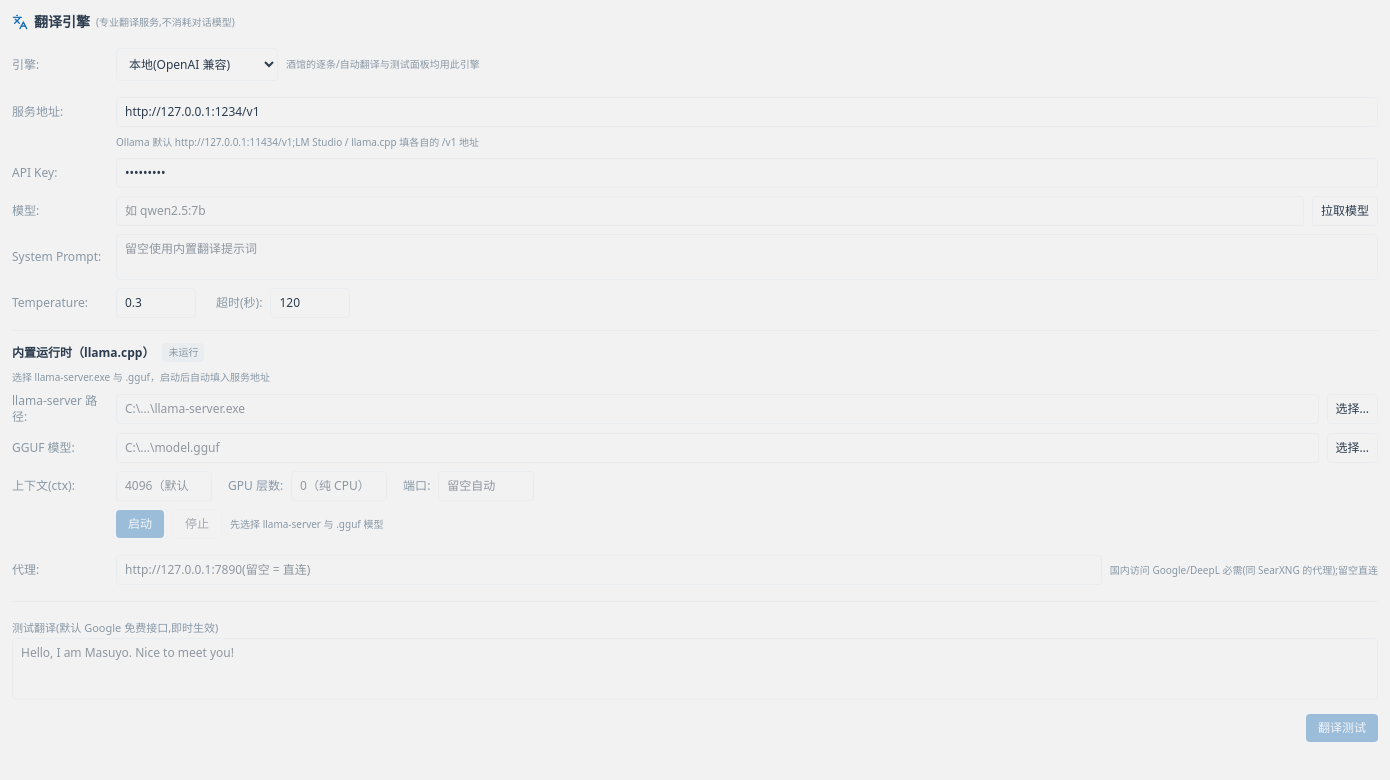
Scenario: TranslateManager — 本地(OpenAI 兼容)引擎 › 点「拉取模型」→ 调 probe_local_llm 并把模型填进下拉
Click the button "拉取模型": (1345, 211) [1312,196,1378,226]
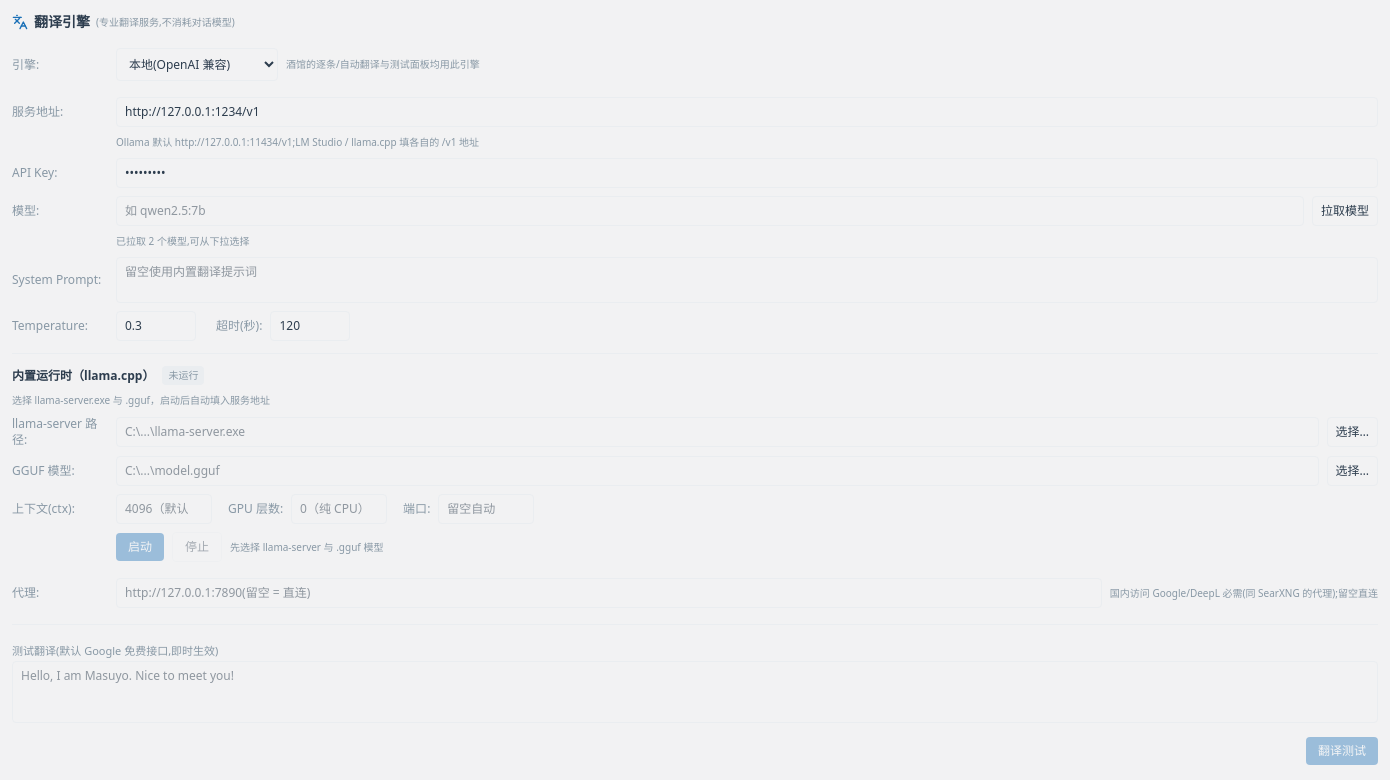
Now the text "已拉取 2 个模型,可从下拉选择" is shown, box [116,234,250,248]
